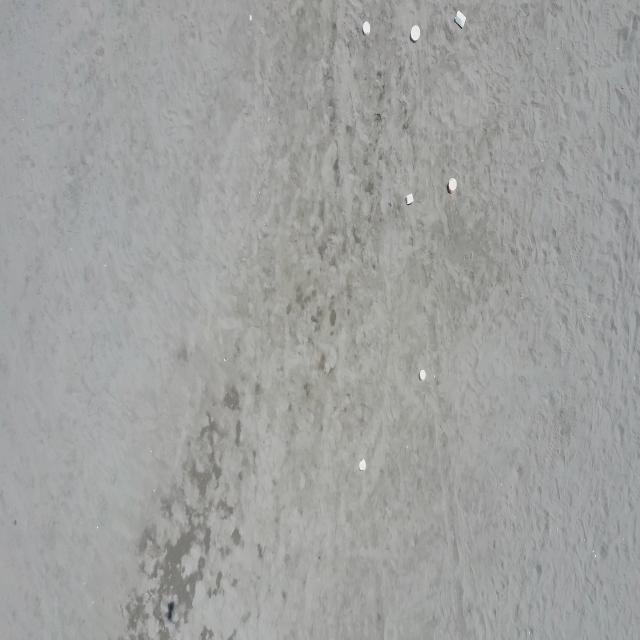take-away-containers: (454, 9, 467, 29), (410, 24, 421, 42), (448, 177, 457, 195), (362, 20, 371, 36), (358, 458, 366, 472), (406, 192, 414, 205), (419, 369, 426, 381)
